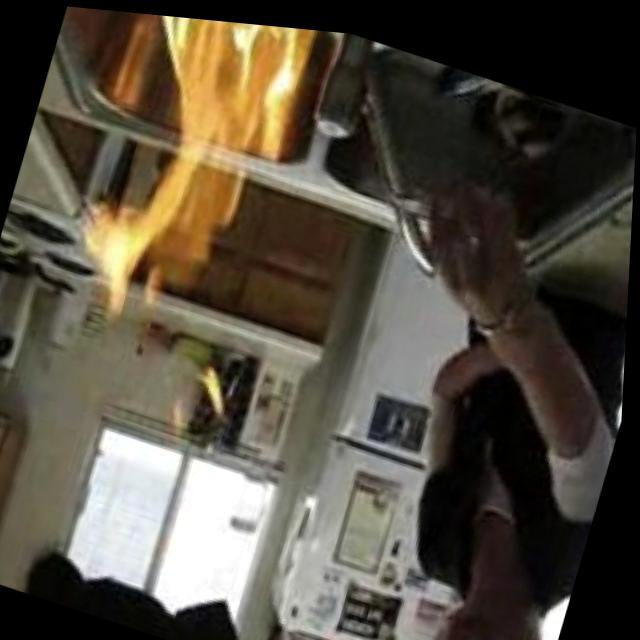fire: (56, 5, 328, 335), (166, 352, 234, 432)
